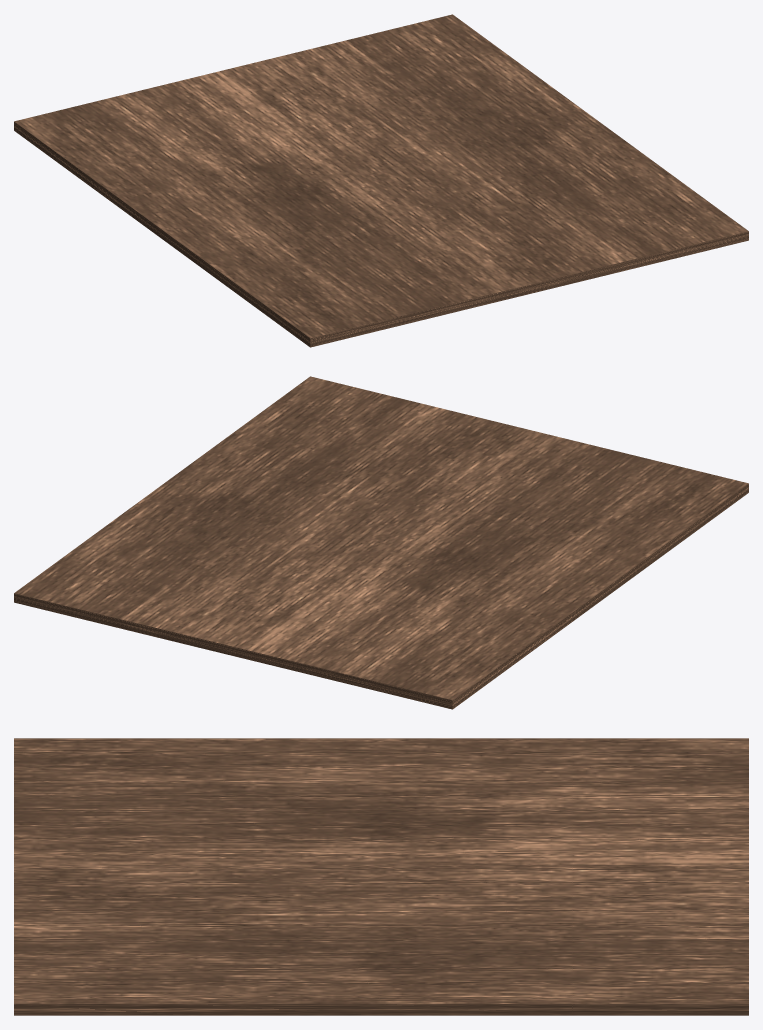
File: Floor.fbx
The picture shows the model from 3 angles, top to bottom: view 1: azimuth 30°, elevation 25°; view 2: azimuth 150°, elevation 25°; view 3: azimuth 270°, elevation 25°; orthographic projection. The views are drawn at different scales.
Parts seen in each view (by area): view 1: 立方体.031; view 2: 立方体.031; view 3: 立方体.031.
Part boxes in pixels (box(x1,y1,x2,y2)): 立方体.031: box(14, 14, 748, 347); 立方体.031: box(14, 376, 748, 709); 立方体.031: box(14, 738, 748, 1015).
Size of the model in its own units: 765 by 15.47 by 895.
Materials: 1 (1 with a texture image).
